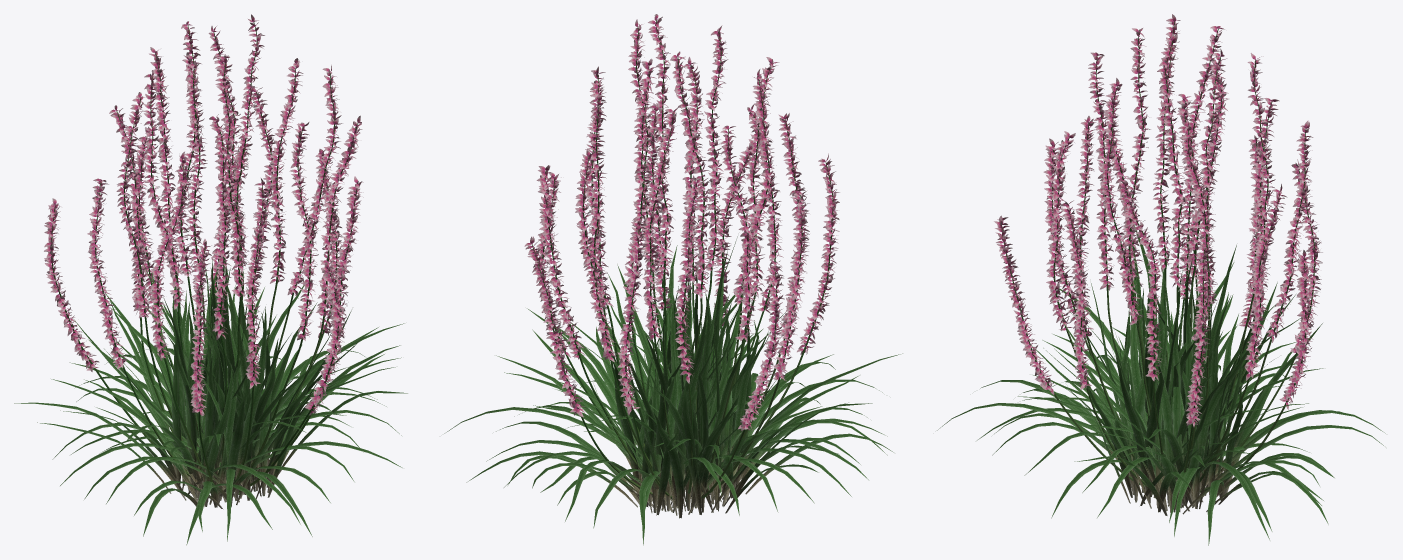
3 renders of one model, left to right at view 1: azimuth 30°, elevation 25°; view 2: azimuth 150°, elevation 25°; view 3: azimuth 270°, elevation 25°, orthographic. The views are drawn at different scales.
Parts seen in each view (by area): view 1: lilyturf, grass; view 2: lilyturf, grass; view 3: lilyturf, grass.
Part boxes in pixels (x1=…): lilyturf: x1=44, y1=14, x2=363, y2=494; grass: x1=14, y1=258, x2=407, y2=545; lilyturf: x1=524, y1=14, x2=839, y2=506; grass: x1=444, y1=236, x2=902, y2=545; lilyturf: x1=994, y1=14, x2=1322, y2=494; grass: x1=937, y1=224, x2=1385, y2=545.
Bounding box in the file's own units: 125 × 149 × 130.
3 materials, 3 textured.
